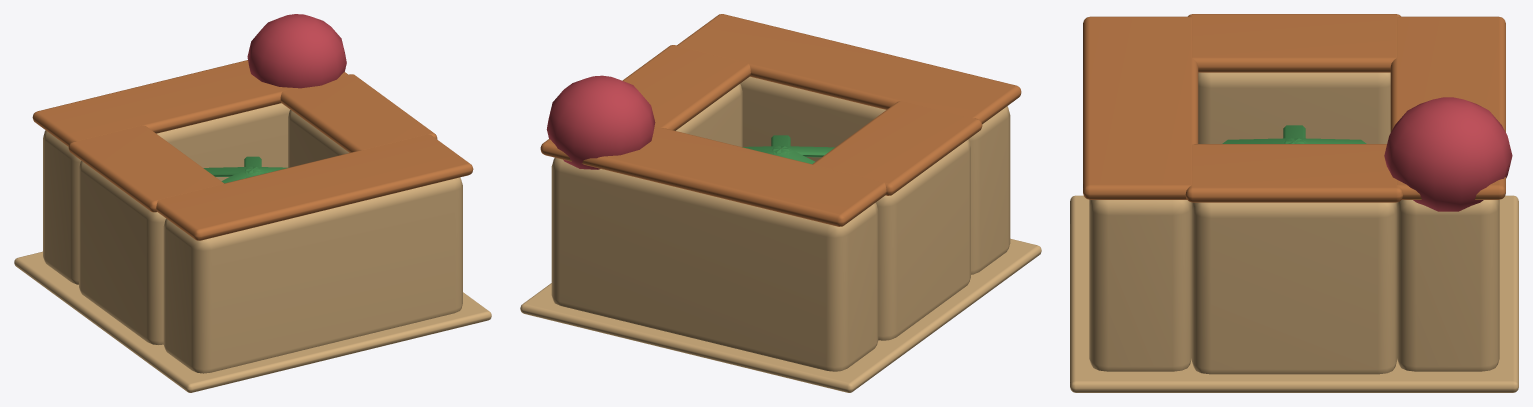
The picture shows the model from 3 angles, left to right: view 1: azimuth 30°, elevation 25°; view 2: azimuth 150°, elevation 25°; view 3: azimuth 270°, elevation 25°; orthographic projection. The views are drawn at different scales.
Visible parts, largest first — view 1: Cube; view 2: Cube; view 3: Cube.
Boxes of the visible parts, <box> form: Cube: <box>14,14,491,392</box>; Cube: <box>520,14,1041,392</box>; Cube: <box>1070,14,1518,392</box>.
Bounding box in the file's own units: 0.7 × 0.45 × 0.7.
